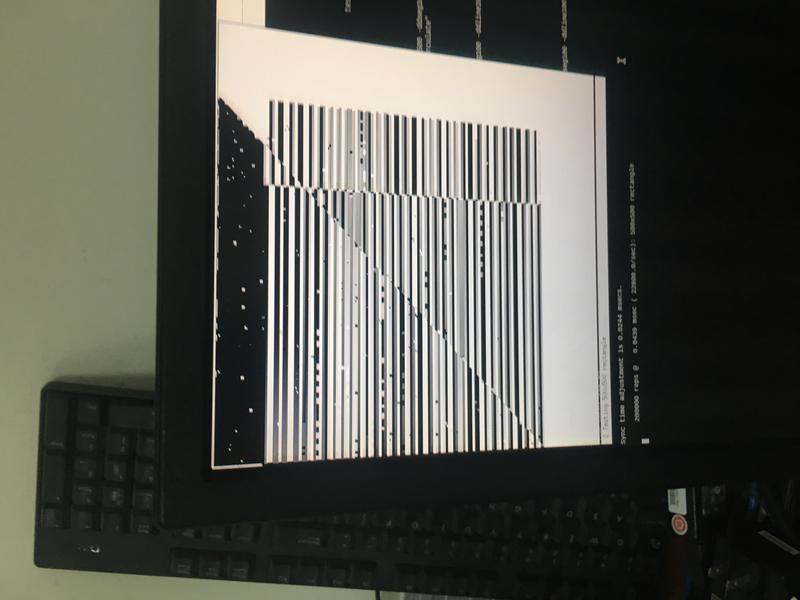xrandr_pass: (186, 11, 626, 470)
